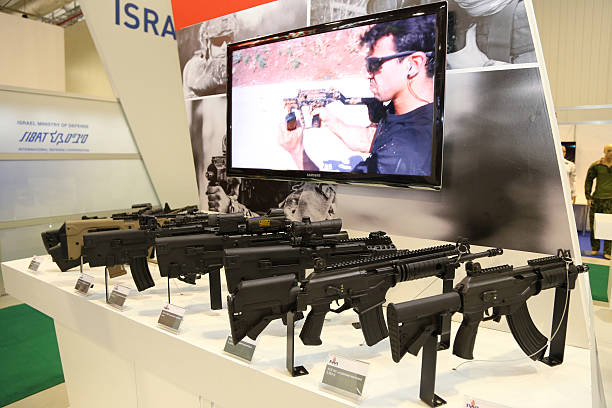rifle: (380, 252, 600, 399), (228, 243, 512, 327)
